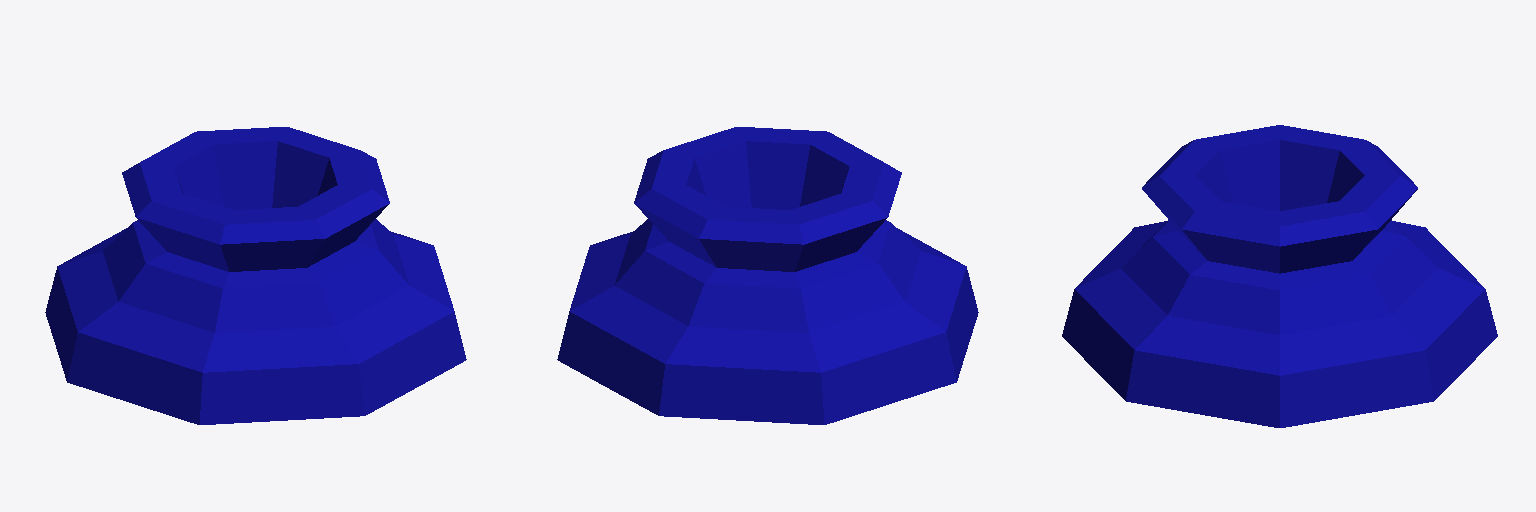
Rendered from FireShooter.obj.
The picture shows the model from 3 angles: view 1: azimuth 30°, elevation 25°; view 2: azimuth 150°, elevation 25°; view 3: azimuth 270°, elevation 25°; orthographic projection.
Visible parts, largest first — view 1: Cylinder001; view 2: Cylinder001; view 3: Cylinder001.
Part boxes in pixels (x1,y1,x2,y2): Cylinder001: (45,127,466,424); Cylinder001: (557,127,978,424); Cylinder001: (1062,125,1497,427).
Size of the model in its own units: 54.12 by 21.99 by 54.12.